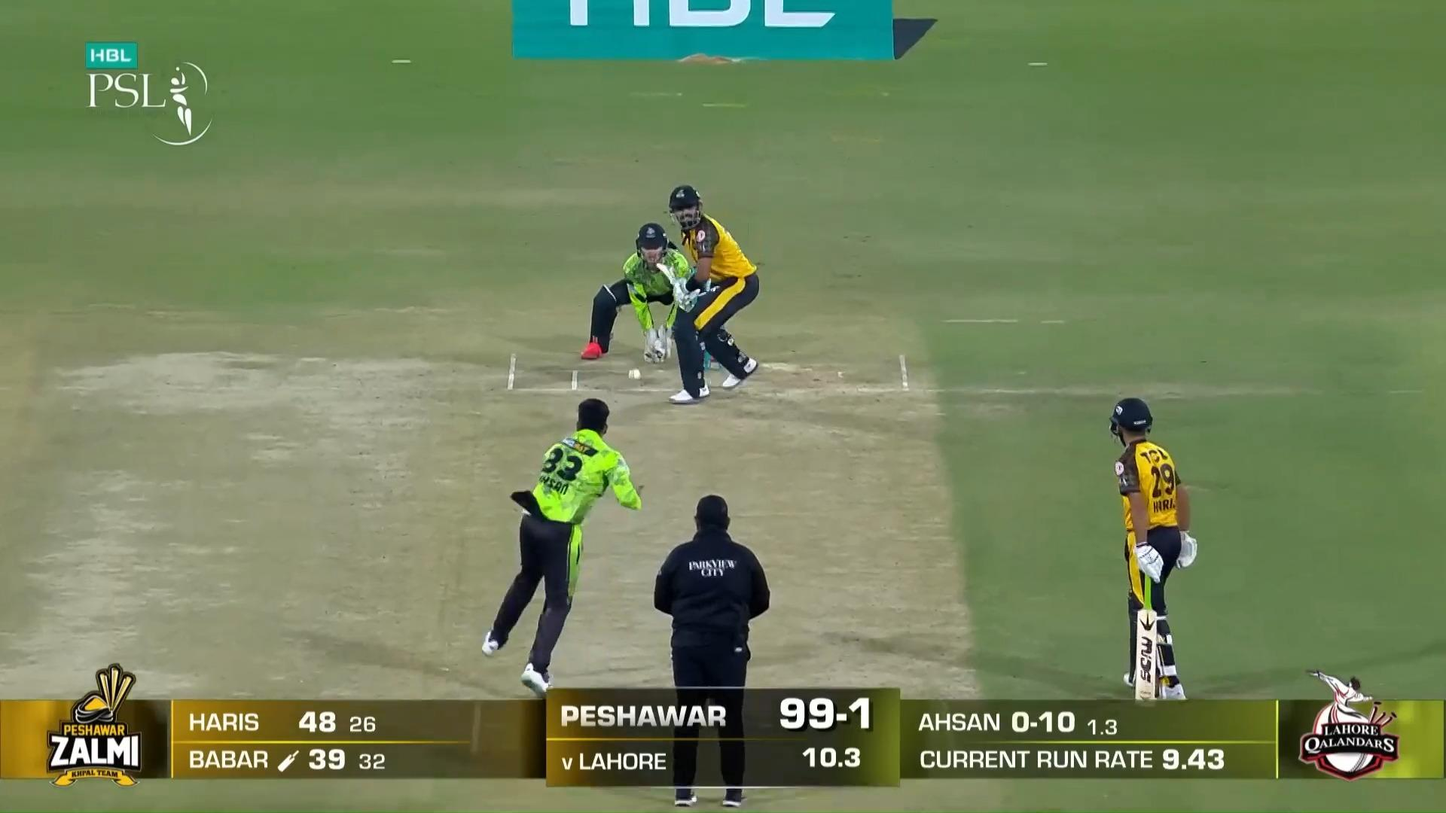batsman: (657, 185, 762, 404)
